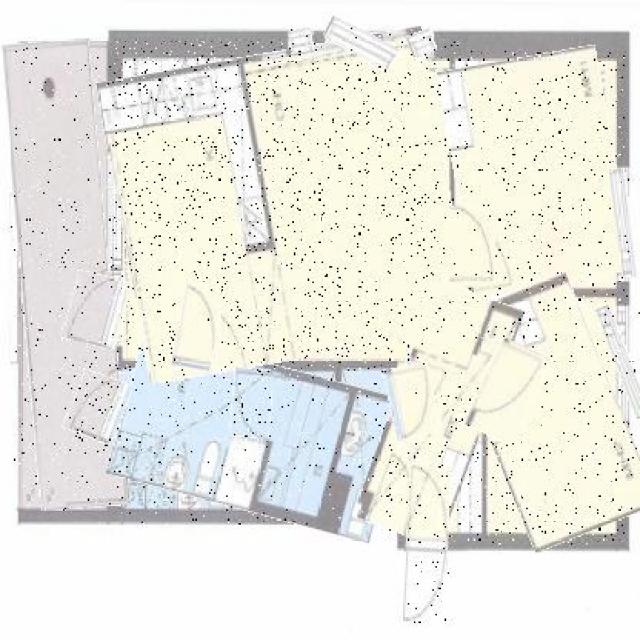door: (469, 340, 542, 442), (406, 465, 449, 623), (66, 272, 128, 348), (68, 372, 128, 442), (175, 283, 220, 371), (386, 364, 437, 438), (450, 206, 496, 282), (231, 369, 272, 437)
window: (604, 304, 640, 420), (323, 23, 399, 62), (612, 169, 634, 280), (408, 30, 435, 56), (289, 30, 314, 56)
zone: (109, 40, 462, 371), (114, 348, 400, 526), (12, 40, 120, 511), (465, 280, 637, 545), (446, 51, 625, 292), (372, 283, 505, 543)
